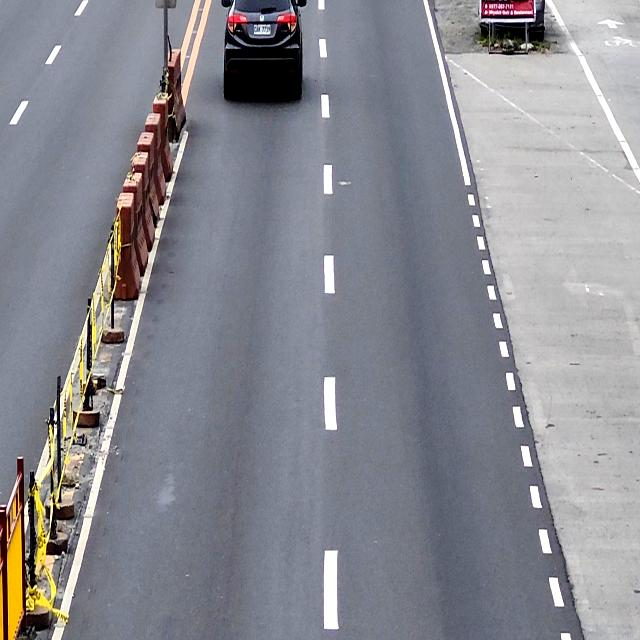Car: (221, 0, 307, 101)
License-Plate: (254, 22, 272, 34)
